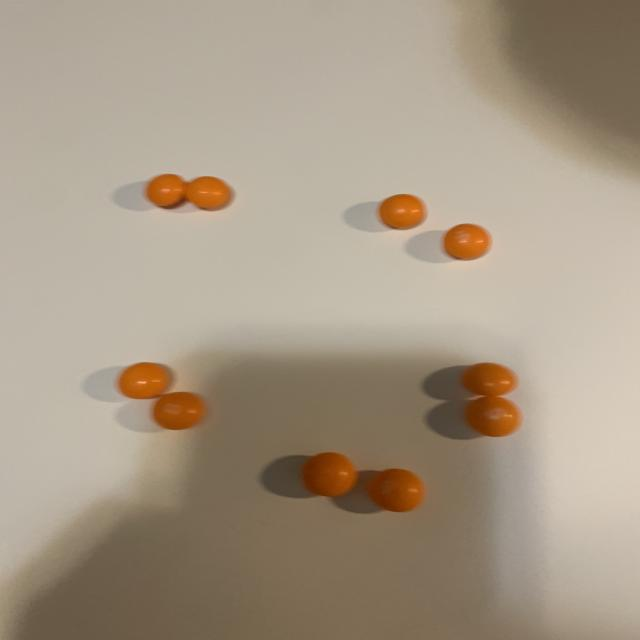smartie: (368, 469, 425, 513), (301, 453, 357, 497), (466, 397, 523, 437), (152, 392, 204, 430), (117, 363, 170, 399), (462, 363, 519, 396), (444, 223, 492, 260), (379, 194, 427, 229), (185, 176, 231, 208), (145, 174, 185, 206)
